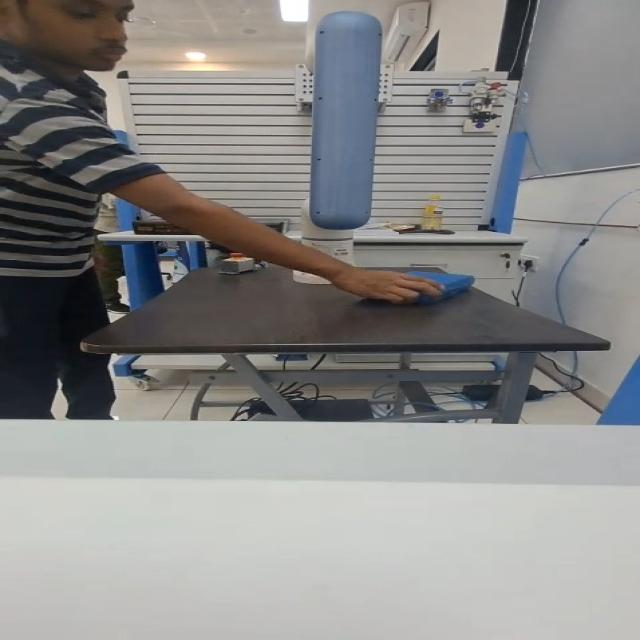top-surface: (385, 273, 464, 288)
